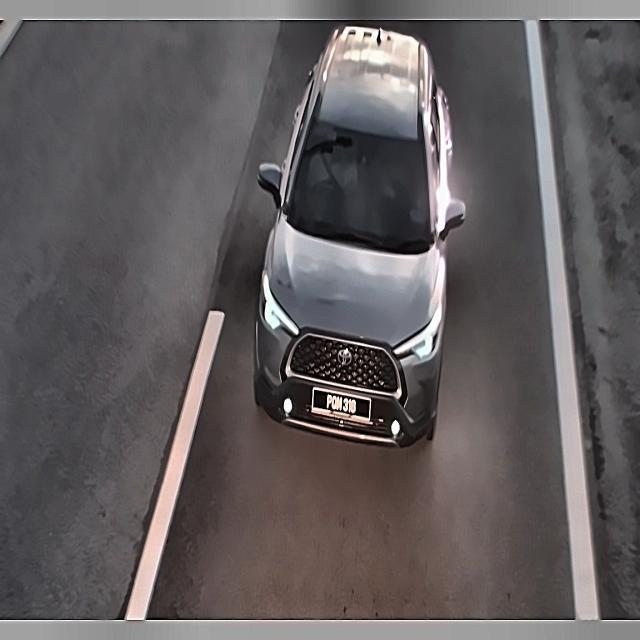car: (306, 372, 377, 429)
